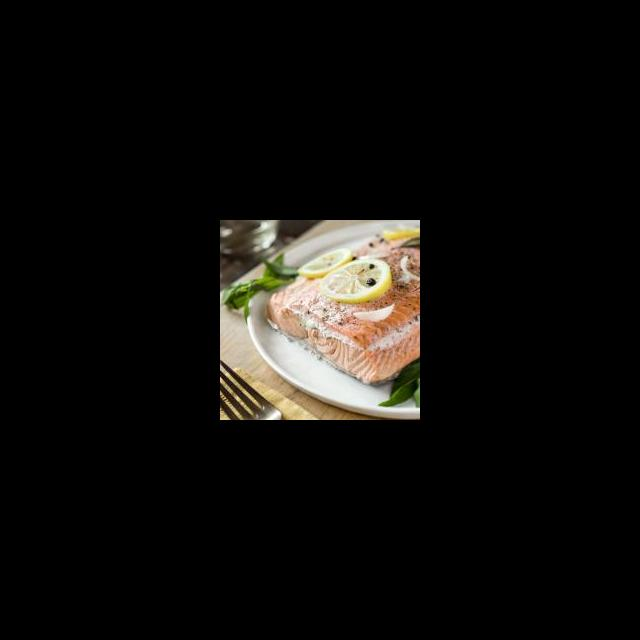ca hoi: (265, 228, 420, 384)
